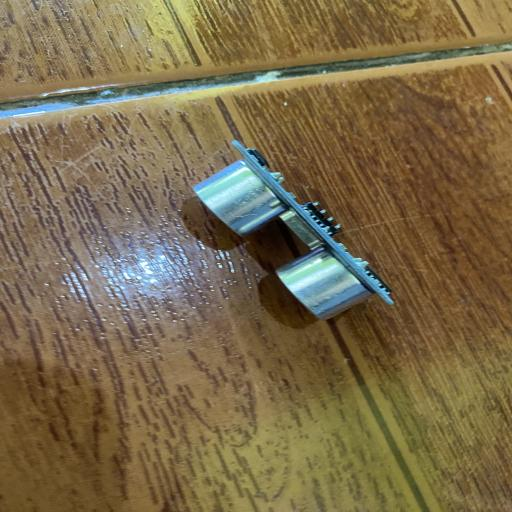Ultrasonic Sensor: (190, 139, 396, 321)
